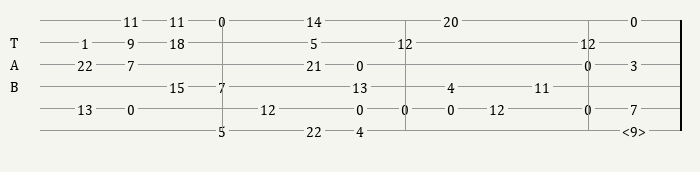0: (127, 101, 139, 115), (218, 13, 230, 27), (356, 101, 368, 115), (356, 57, 368, 71), (401, 101, 413, 115), (447, 101, 459, 115), (584, 101, 596, 115), (584, 57, 596, 71), (630, 13, 642, 27)
1: (81, 35, 93, 49)
11: (123, 13, 143, 27), (169, 13, 189, 27), (534, 79, 554, 93)
12: (260, 101, 280, 115), (397, 35, 417, 49), (489, 101, 509, 115), (580, 35, 600, 49)
13: (77, 101, 97, 115), (352, 79, 372, 93)
14: (306, 13, 326, 27)
15: (169, 79, 189, 94)
18: (169, 35, 189, 49)
20: (443, 13, 463, 27)
21: (306, 57, 326, 71)
22: (77, 57, 97, 71), (306, 123, 326, 137)
3: (630, 57, 642, 71)
4: (356, 123, 368, 137), (447, 79, 459, 93)
5: (218, 123, 230, 138), (310, 35, 322, 50)
7: (127, 57, 139, 71), (218, 79, 230, 93), (630, 101, 642, 115)
9: (127, 35, 139, 49)
harmonic: (622, 123, 650, 137)
